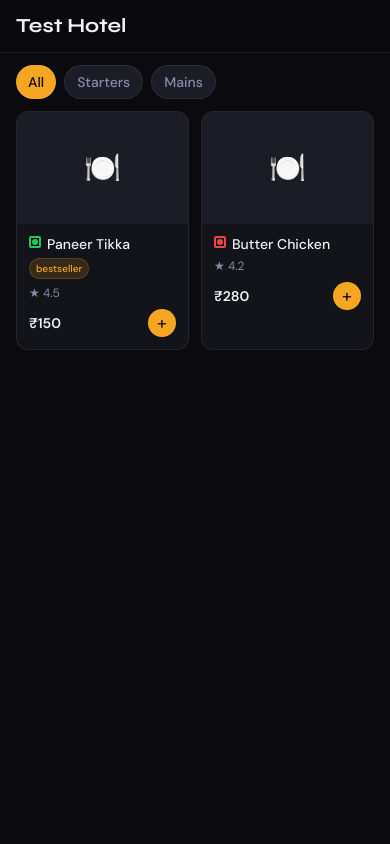
Test: PF01 - Menu Screen › Add to cart updates cart count in floating button
This screenshot has width=390, height=844.
Expected: the text "Paneer Tikka" is shown, [47,235,130,253]
Expected: the field labelled "view cart" is not shown
# Click add on Paneer Tikka (no customizations)
Click the button named "Add Paneer Tikka to cart" at [162, 322], box [148,308,176,336]
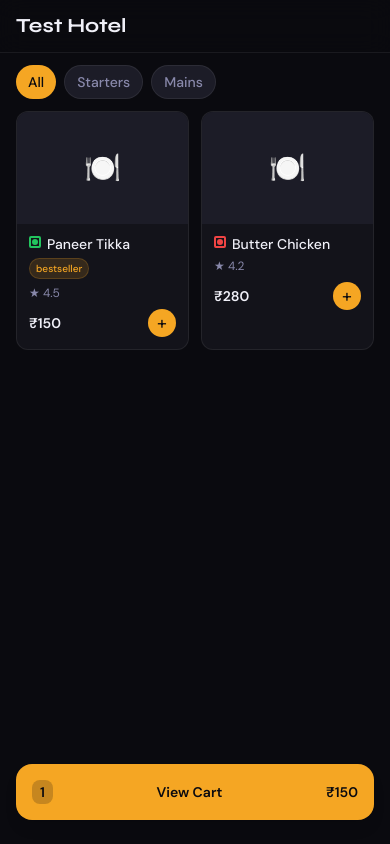
Result: the button with aria-label "view cart with 1 item" is shown at [16,764,374,820]
# Add another
Click the button named "Add Paneer Tikka to cart" at [162, 322], box [148,308,176,336]
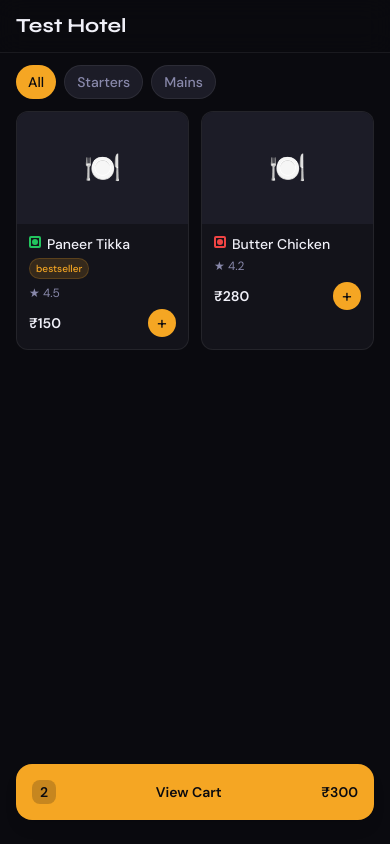
Result: the button with aria-label "view cart with 2 items" is shown at [16,764,374,820]
